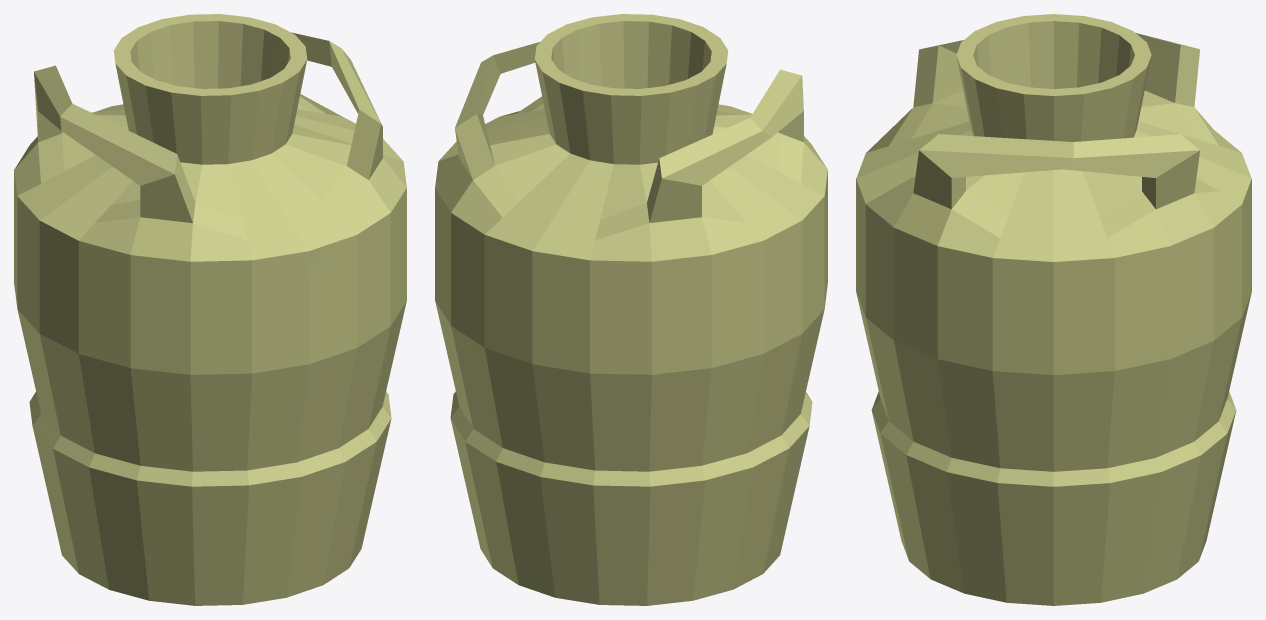
File: vaso1.fbx
3 renders of one model, left to right at view 1: azimuth 30°, elevation 25°; view 2: azimuth 150°, elevation 25°; view 3: azimuth 270°, elevation 25°, orthographic.
Parts seen in each view (by area): view 1: Cylinder; view 2: Cylinder; view 3: Cylinder.
Part boxes in pixels (x1,y1,x2,y2): Cylinder: (14, 14, 406, 605); Cylinder: (435, 14, 827, 605); Cylinder: (856, 14, 1251, 605).
Bounding box in the file's own units: 199 × 271 × 200.
1 material, 1 textured.
